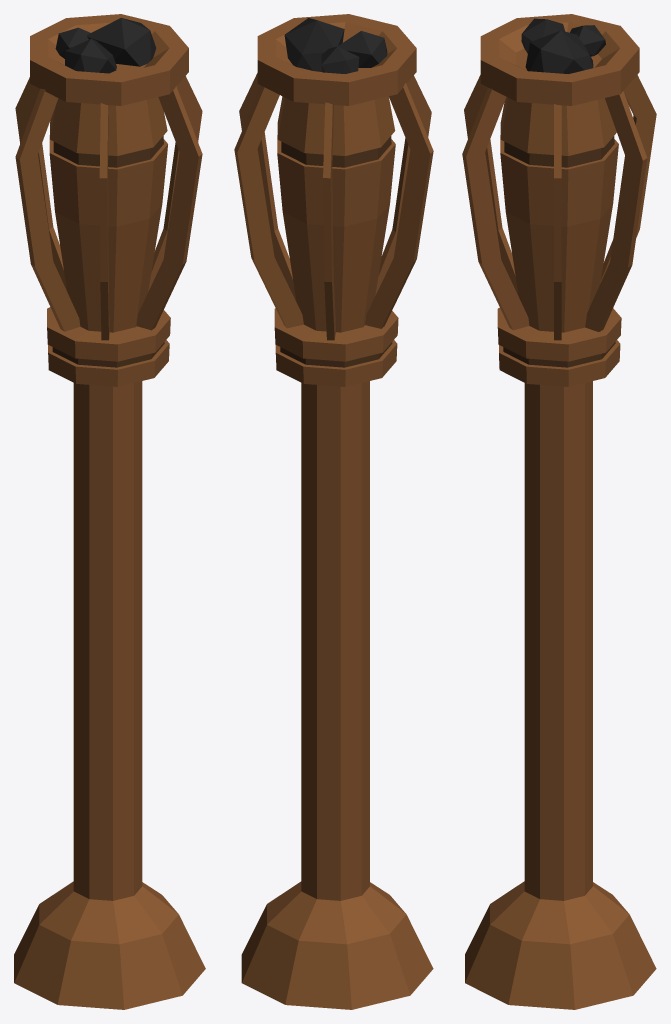
Rendered from LV5 Torch.glb.
The picture shows the model from 3 angles, left to right: view 1: azimuth 30°, elevation 25°; view 2: azimuth 150°, elevation 25°; view 3: azimuth 270°, elevation 25°; orthographic projection.
Parts seen in each view (by area): view 1: Cylinder, Icosphere.001; view 2: Cylinder, Icosphere.001; view 3: Cylinder, Icosphere.001.
Part boxes in pixels (x1,y1,x2,y2): Cylinder: (14, 14, 205, 1009); Icosphere.001: (55, 17, 156, 73); Cylinder: (234, 14, 433, 1009); Icosphere.001: (284, 18, 387, 73); Cylinder: (462, 14, 656, 1009); Icosphere.001: (521, 18, 605, 73).
Bounding box in the file's own units: 1.14 × 5.51 × 1.03.
